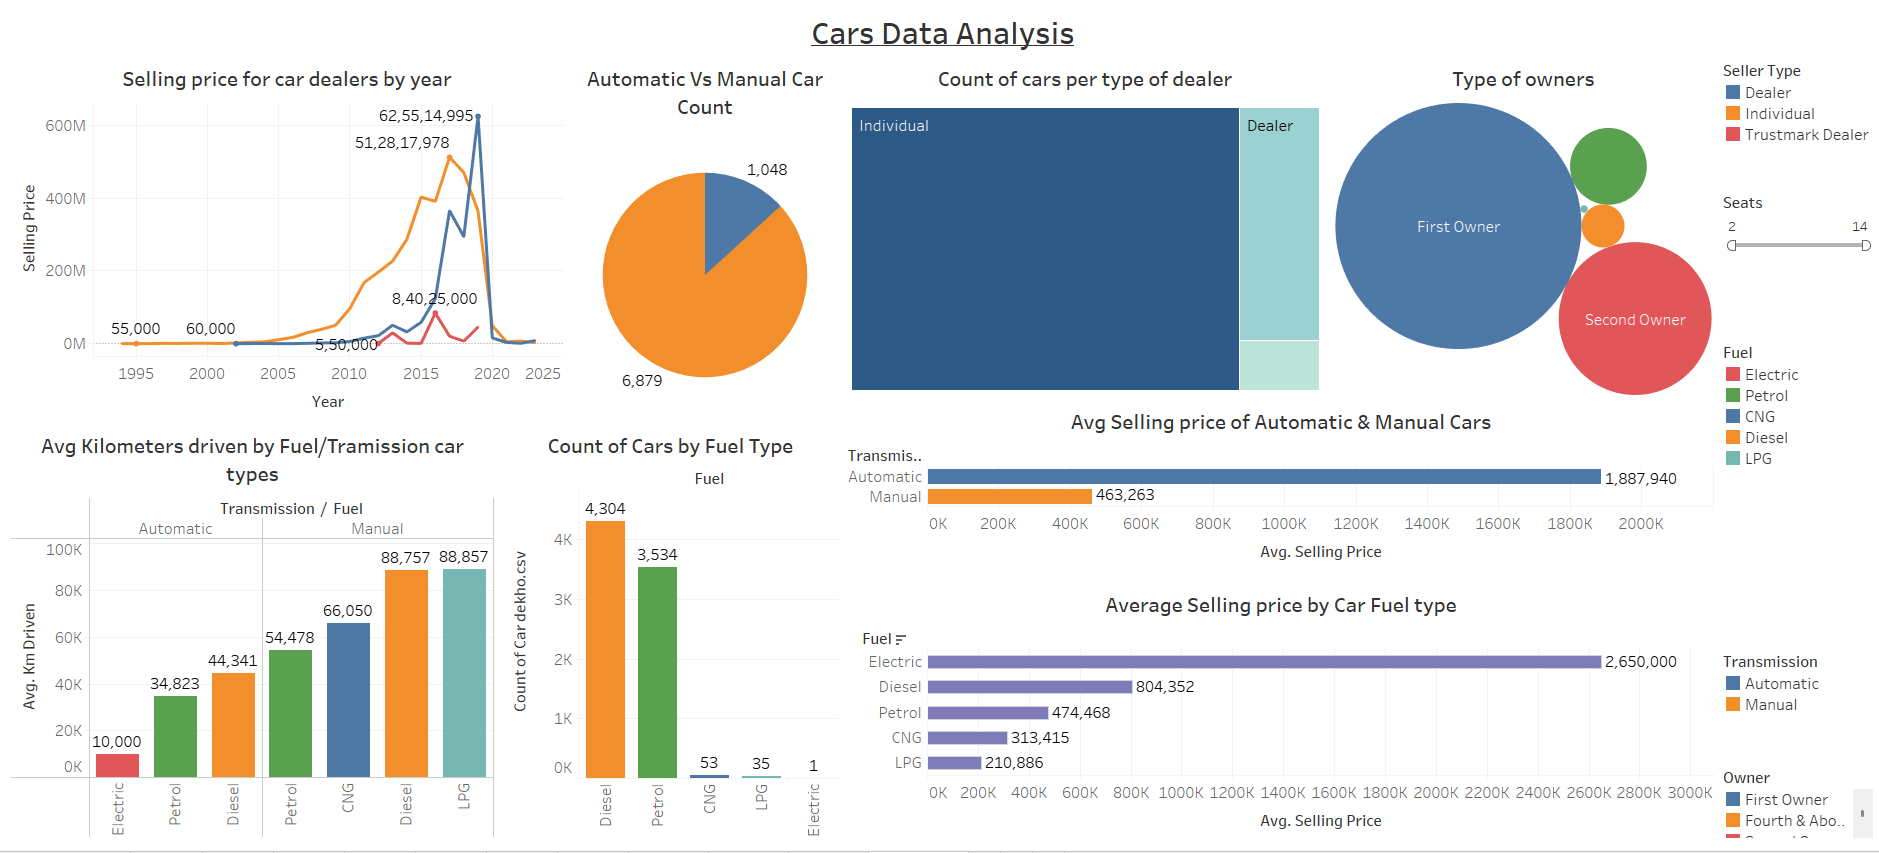

This screenshot's page, from the dashboard's own definition file:
{"tool":"tableau","page":{"name":"CarsData","canvas":[1000,1000],"units":"permille","ordinal":0},"visuals":[{"type":"title","box":[4.2,9.4,991.5,57.6]},{"type":"worksheet","title":"Sheet 1","mark":"Automatic","rows":["selling_price"],"cols":["year"],"box":[4.2,67,296.7,431.4]},{"type":"worksheet","title":"Sheet 4","mark":"Pie","box":[300.9,67,146.2,431.4]},{"type":"worksheet","title":"Sheet 3","mark":"Automatic","box":[447.1,67,256.6,402.6]},{"type":"worksheet","title":"Sheet 8","mark":"Circle","box":[703.7,67,207.3,402.6]},{"type":"legend","title":"Sheet 1","param":"[federated.0txxlry03zd4a510yl8910zqodeq].[none:seller_type:nk]","box":[911,67,84.8,155.1]},{"type":"filter","title":"Sheet 12","param":"[federated.0txxlry03zd4a510yl8910zqodeq].[none:seats:qk]","box":[911,222.1,84.8,176.3]},{"type":"legend","title":"Sheet 12","param":"[federated.0txxlry03zd4a510yl8910zqodeq].[none:fuel:nk]","box":[911,398.4,84.8,239.7]},{"type":"worksheet","title":"Sheet 6","mark":"Automatic","rows":["transmission"],"cols":["selling_price"],"box":[447.1,469.6,463.9,215.7]},{"type":"worksheet","title":"Sheet 12","mark":"Bar","rows":["km_driven"],"cols":["transmission","fuel"],"box":[4.2,498.4,260.2,492.2]},{"type":"worksheet","title":"Sheet 7","mark":"Bar","rows":["Car dekho.csv_B43718E081E843B59D8FF8763C8ACAAE"],"cols":["fuel"],"box":[264.4,498.4,182.7,492.2]},{"type":"legend","title":"Sheet 3","param":"[federated.0txxlry03zd4a510yl8910zqodeq].[__tableau_internal_object_id__].[cnt:C","box":[911,638.1,84.8,123.4]},{"type":"worksheet","title":"Sheet 5","mark":"Automatic","rows":["fuel"],"cols":["selling_price"],"box":[447.1,685.3,463.9,305.3]},{"type":"legend","title":"Sheet 4","param":"[federated.0txxlry03zd4a510yl8910zqodeq].[none:transmission:nk]","box":[911,761.5,84.8,136.3]},{"type":"legend","title":"Sheet 8","param":"[federated.0txxlry03zd4a510yl8910zqodeq].[none:owner:nk]","box":[911,897.8,84.8,92.8]}]}

Visuals, with their boxes on the dashboard's canvas, which has no fixed pixel size, in thousandths of its width and height (x1, y1, x2, y2). These are canvas units, not pixel positions in the 1879x853 screenshot, which may show the page scaled, cropped or inside an application window:
title: (x1=4, y1=9, x2=996, y2=67)
"Sheet 1" worksheet: (x1=4, y1=67, x2=301, y2=498)
"Sheet 4" worksheet (Pie marks): (x1=301, y1=67, x2=447, y2=498)
"Sheet 3" worksheet: (x1=447, y1=67, x2=704, y2=470)
"Sheet 8" worksheet (Circle marks): (x1=704, y1=67, x2=911, y2=470)
"Sheet 1" legend: (x1=911, y1=67, x2=996, y2=222)
"Sheet 12" filter: (x1=911, y1=222, x2=996, y2=398)
"Sheet 12" legend: (x1=911, y1=398, x2=996, y2=638)
"Sheet 6" worksheet: (x1=447, y1=470, x2=911, y2=685)
"Sheet 12" worksheet (Bar marks): (x1=4, y1=498, x2=264, y2=991)
"Sheet 7" worksheet (Bar marks): (x1=264, y1=498, x2=447, y2=991)
"Sheet 3" legend: (x1=911, y1=638, x2=996, y2=762)
"Sheet 5" worksheet: (x1=447, y1=685, x2=911, y2=991)
"Sheet 4" legend: (x1=911, y1=762, x2=996, y2=898)
"Sheet 8" legend: (x1=911, y1=898, x2=996, y2=991)
